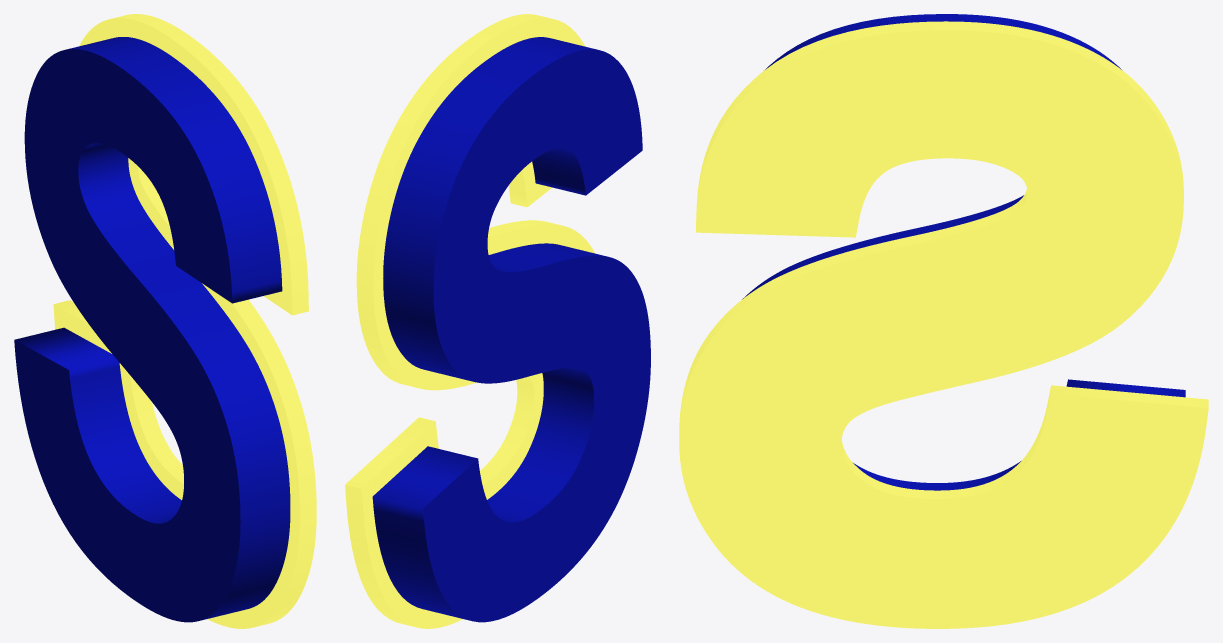
File: product1_design1.glb
The picture shows the model from 3 angles, left to right: view 1: azimuth 30°, elevation 25°; view 2: azimuth 150°, elevation 25°; view 3: azimuth 270°, elevation 25°; orthographic projection. The views are drawn at different scales.
Visible parts, largest first — view 1: Stil_B_Mirorr, Curve.017; view 2: Stil_B_Mirorr, Curve.017; view 3: Curve.017, Stil_B_Mirorr.
Part boxes in pixels (x1,y1,x2,y2): Stil_B_Mirorr: (14, 37, 290, 622); Curve.017: (53, 14, 316, 628); Stil_B_Mirorr: (372, 37, 650, 622); Curve.017: (345, 14, 594, 628); Curve.017: (679, 21, 1208, 628); Stil_B_Mirorr: (742, 14, 1185, 490).
Size of the model in its own units: 0.04 by 0.3199 by 0.2564.
